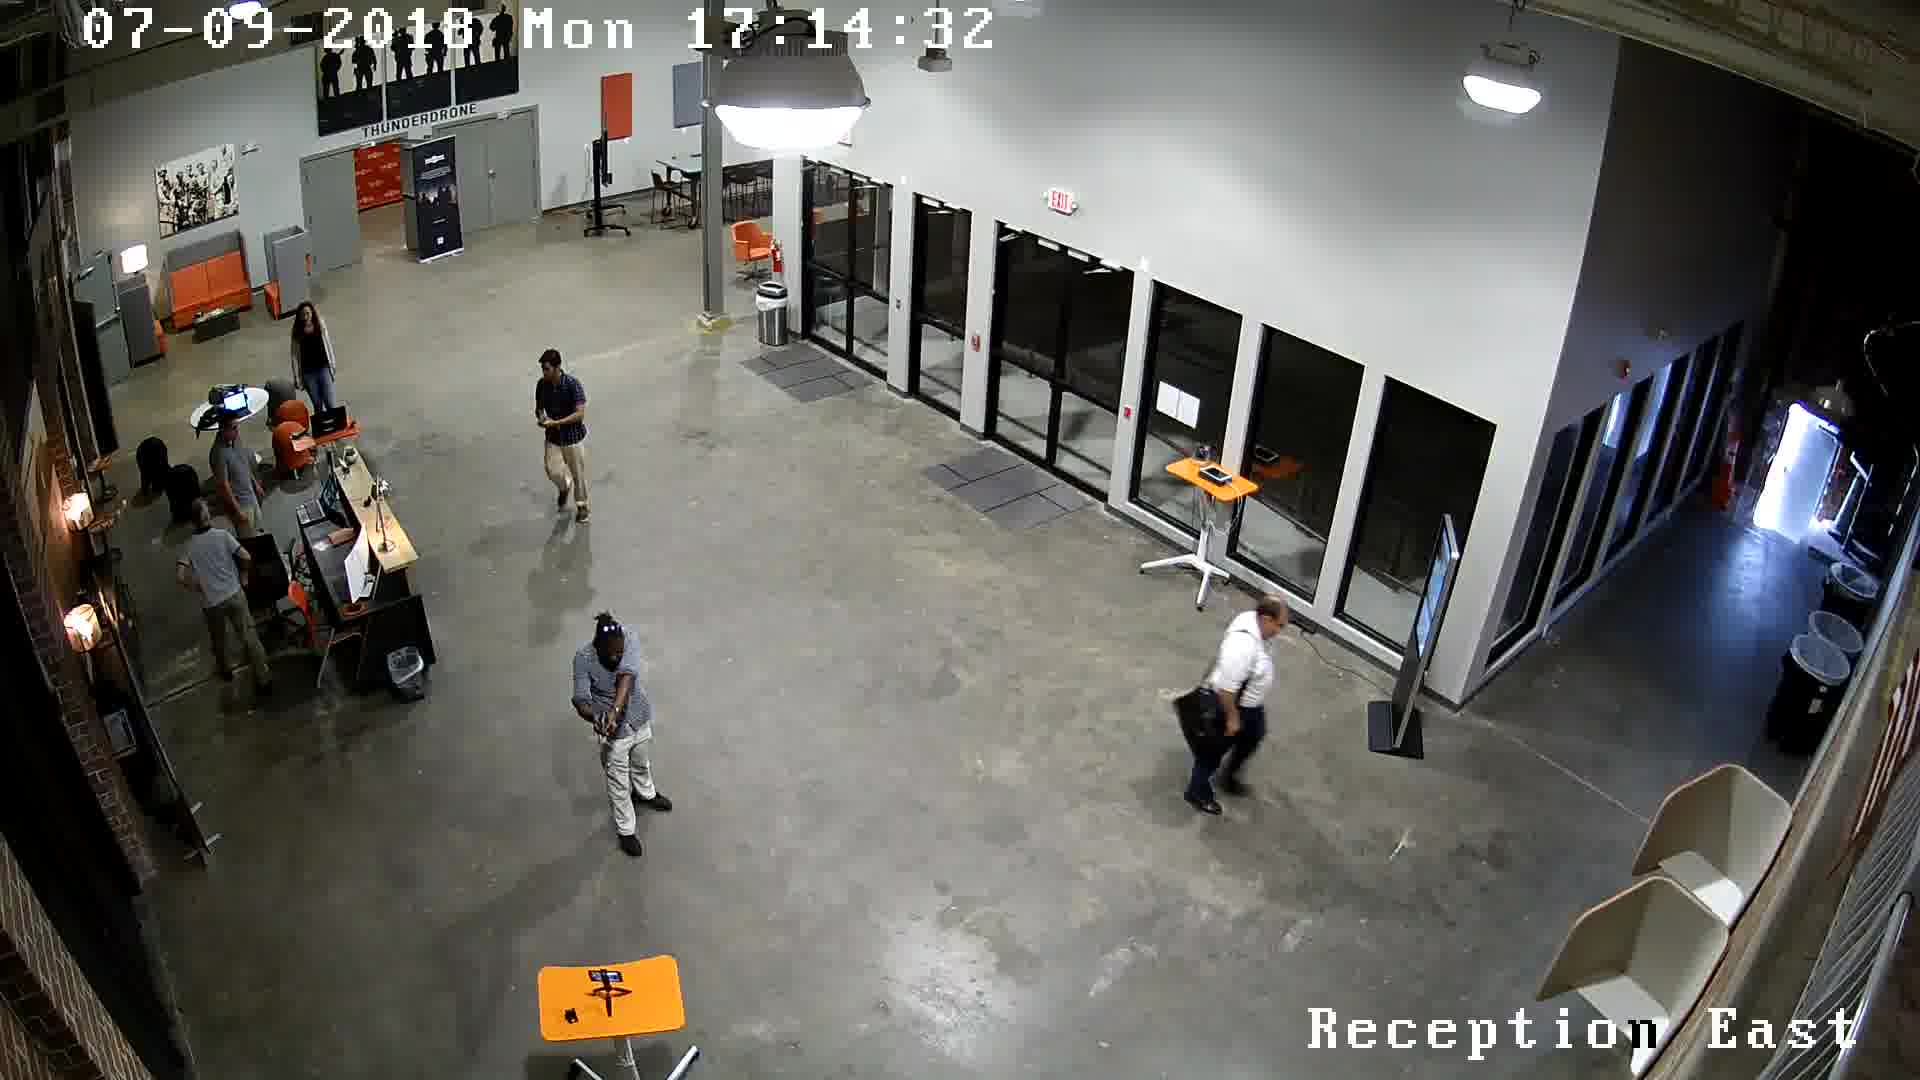pistol: (579, 702, 618, 753), (524, 411, 559, 440)
